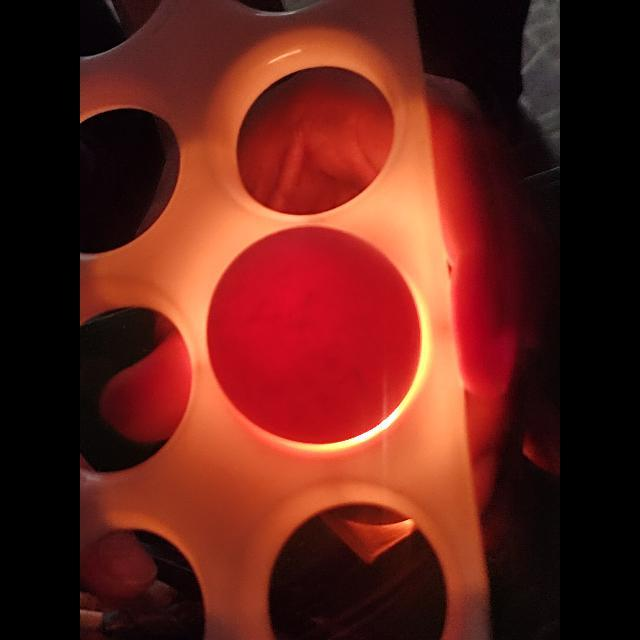Infertile: (205, 220, 429, 448)
